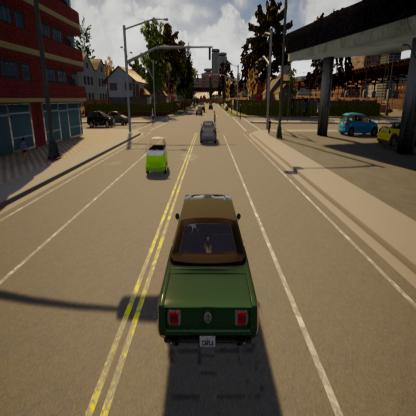Cars: (157, 186, 269, 376), (138, 121, 172, 178), (331, 111, 385, 141), (375, 111, 416, 147), (198, 117, 226, 151), (102, 109, 135, 127), (87, 106, 117, 125), (195, 105, 209, 117)
Pedestrian: (148, 102, 158, 127), (212, 103, 220, 128), (238, 101, 243, 124)
